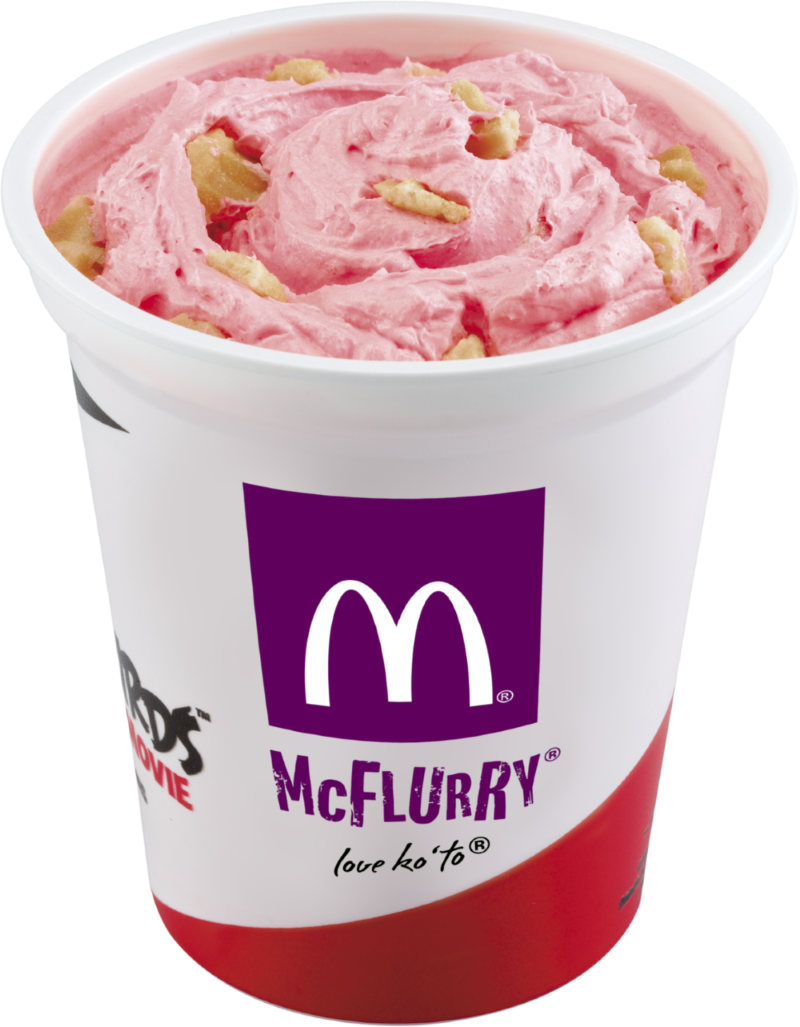mcdonalds: (290, 568, 505, 726)
